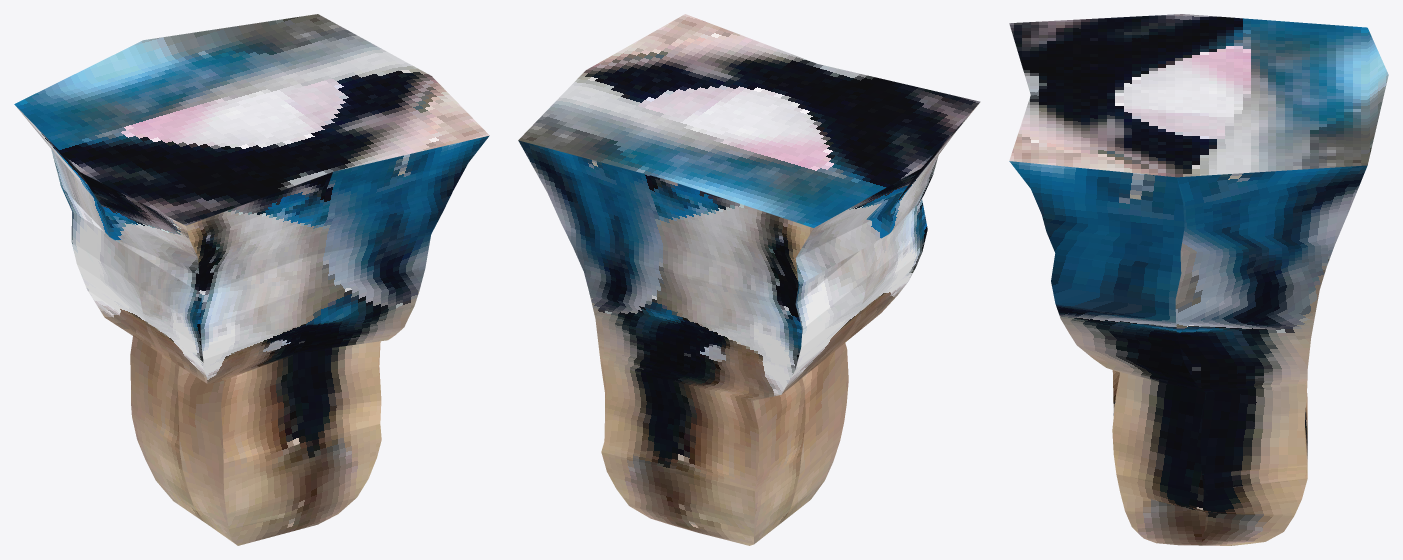
3 renders of one model, left to right at view 1: azimuth 30°, elevation 25°; view 2: azimuth 150°, elevation 25°; view 3: azimuth 270°, elevation 25°, orthographic. The views are drawn at different scales.
Visible parts, largest first — view 1: SPLICE_3; view 2: SPLICE_3; view 3: SPLICE_3.
Part boxes in pixels (bbox=[...]): SPLICE_3: bbox=[14, 14, 489, 545]; SPLICE_3: bbox=[518, 14, 980, 545]; SPLICE_3: bbox=[1009, 14, 1388, 545].
Size of the model in its own units: 1.07 by 1.28 by 0.9717.
Materials: 1 (1 with a texture image).
